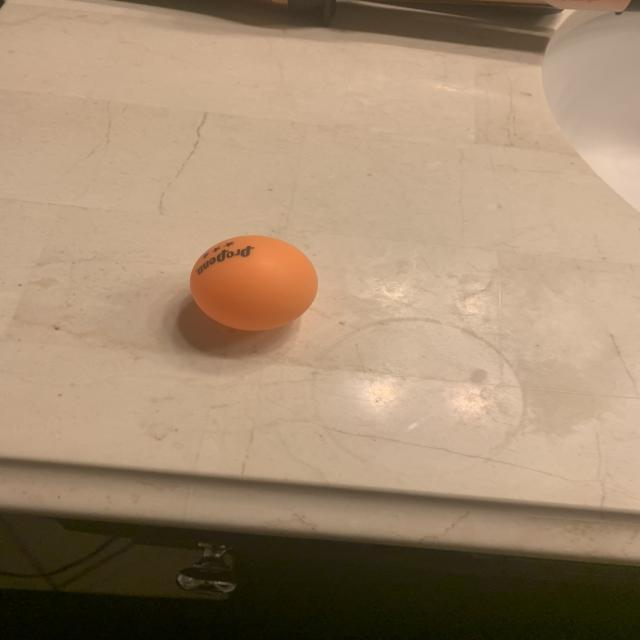ping-pong-ball: (184, 230, 322, 336)
